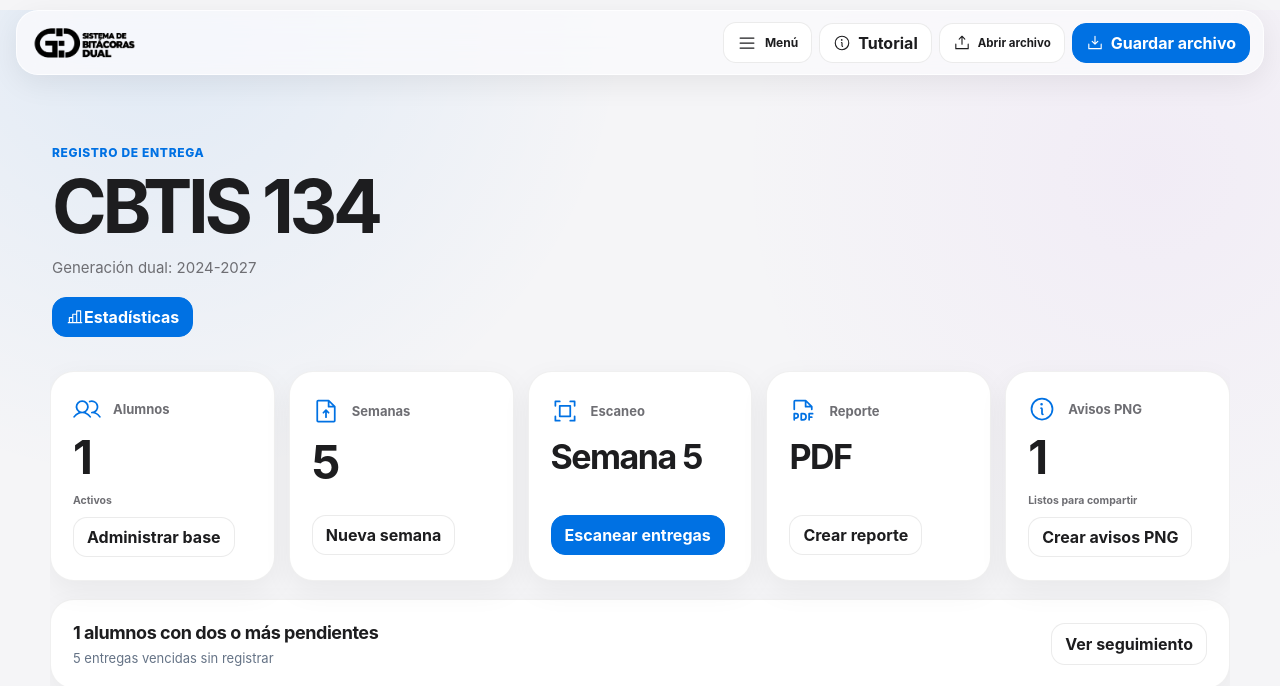
Test: Restauración web de escritorio sin afectar la app móvil › las Estadísticas de escritorio vuelven a tener título, KPIs y filtros originales
Step 1. Click the button "Estadísticas" → click(123, 317), box [52,297,193,337]
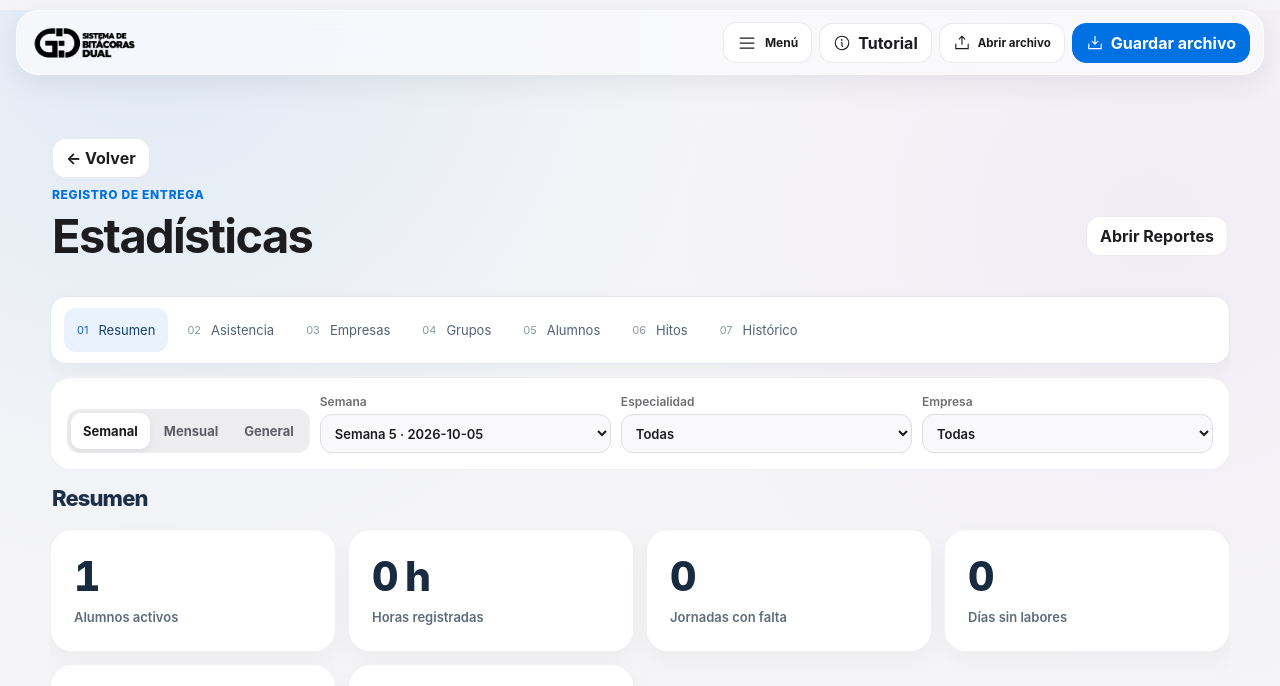
Expected: the heading "Estadísticas" is shown, [52,211,312,260]
Expected: the element with class "ds-desktop-header" is shown, [50,123,1230,265]
Expected: the element named "Periodo" is shown, [67,409,310,453]
